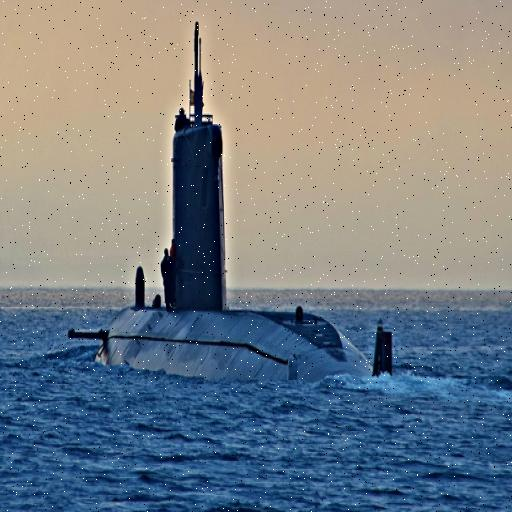submarine: (78, 108, 404, 386)
